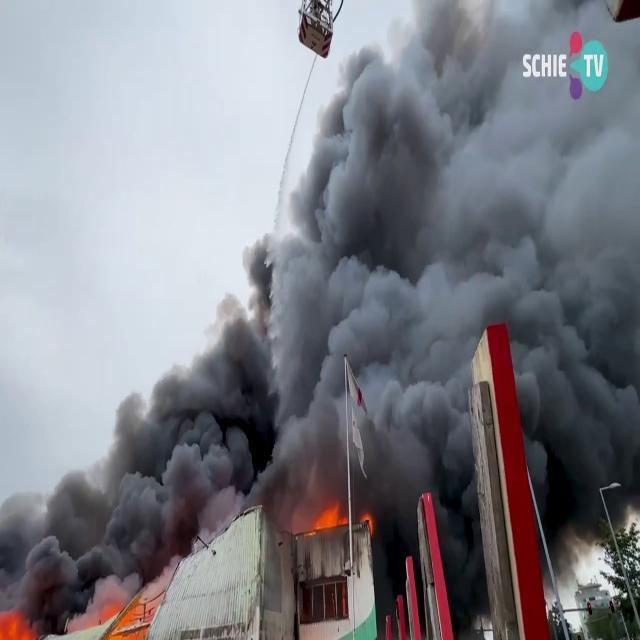Smoke: (277, 2, 638, 506), (1, 309, 274, 607)
